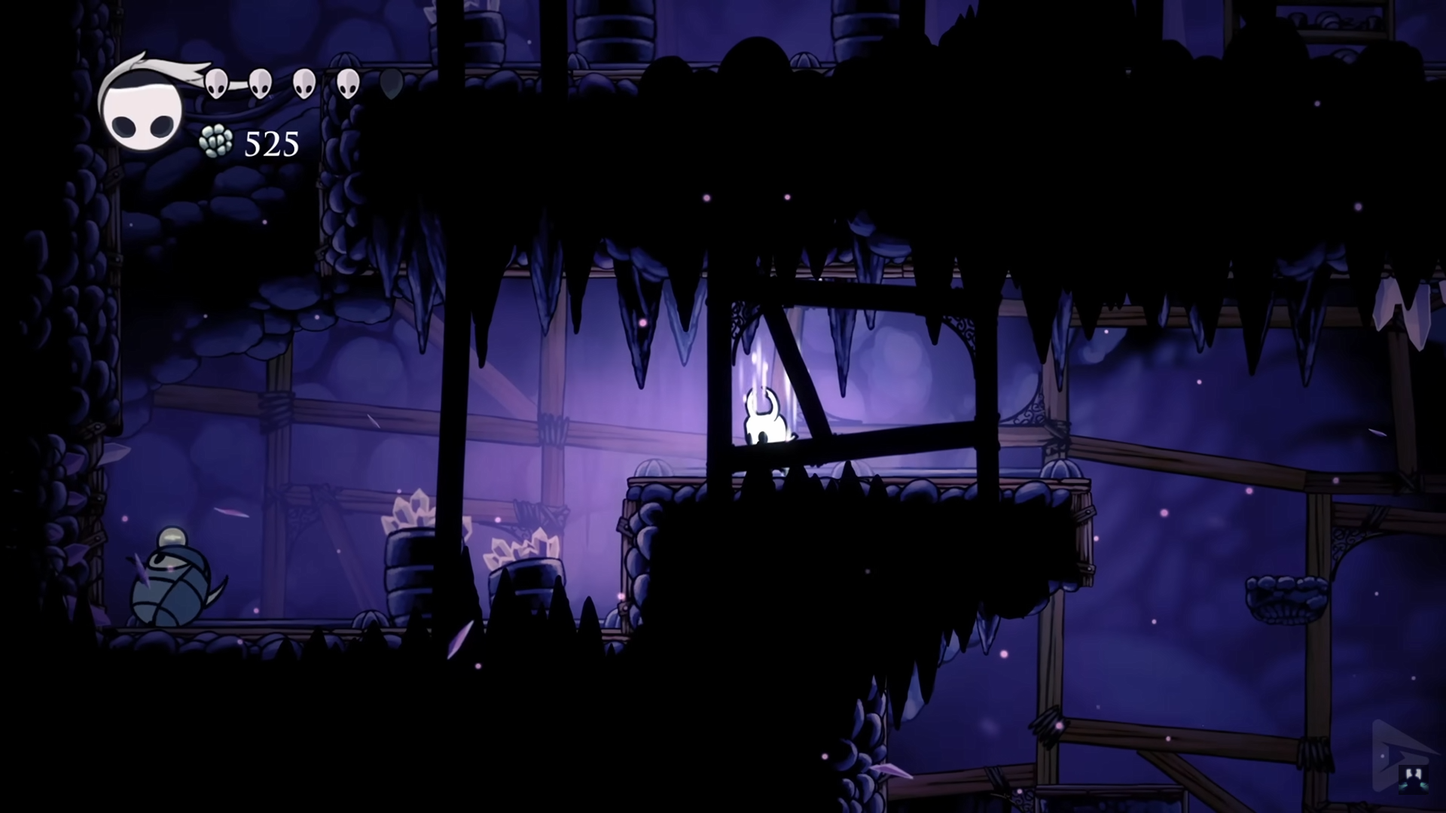HK: (737, 384, 793, 446)
